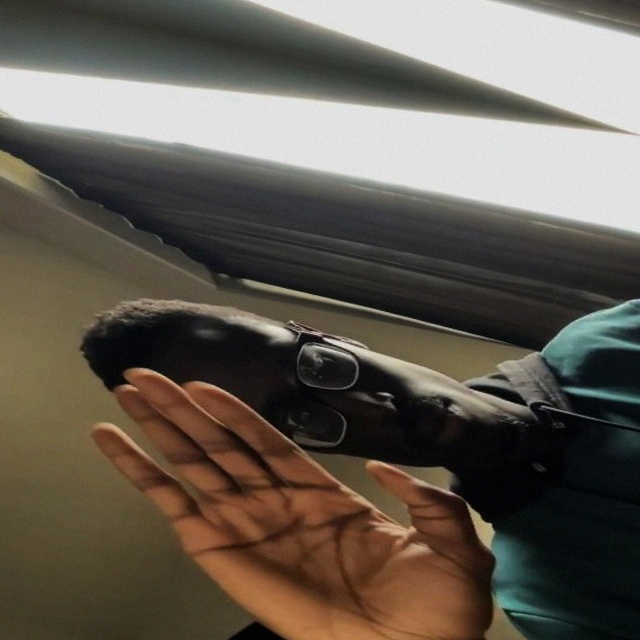Paper: (50, 359, 525, 640)
